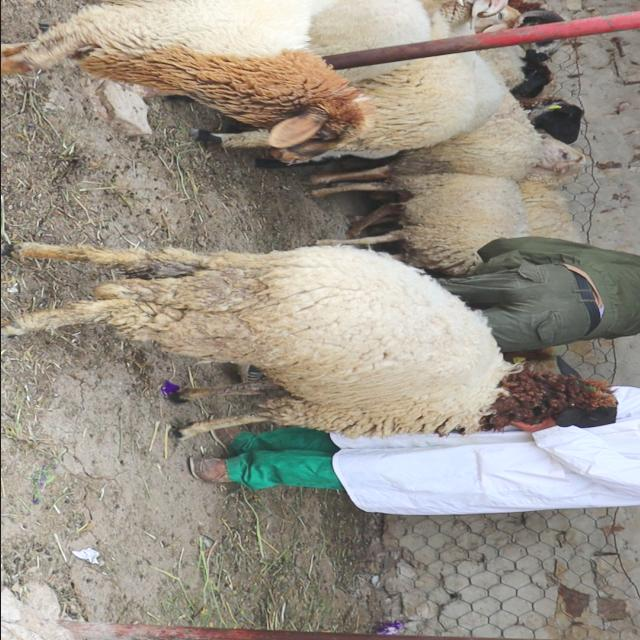Score_3: (4, 242, 617, 438)
